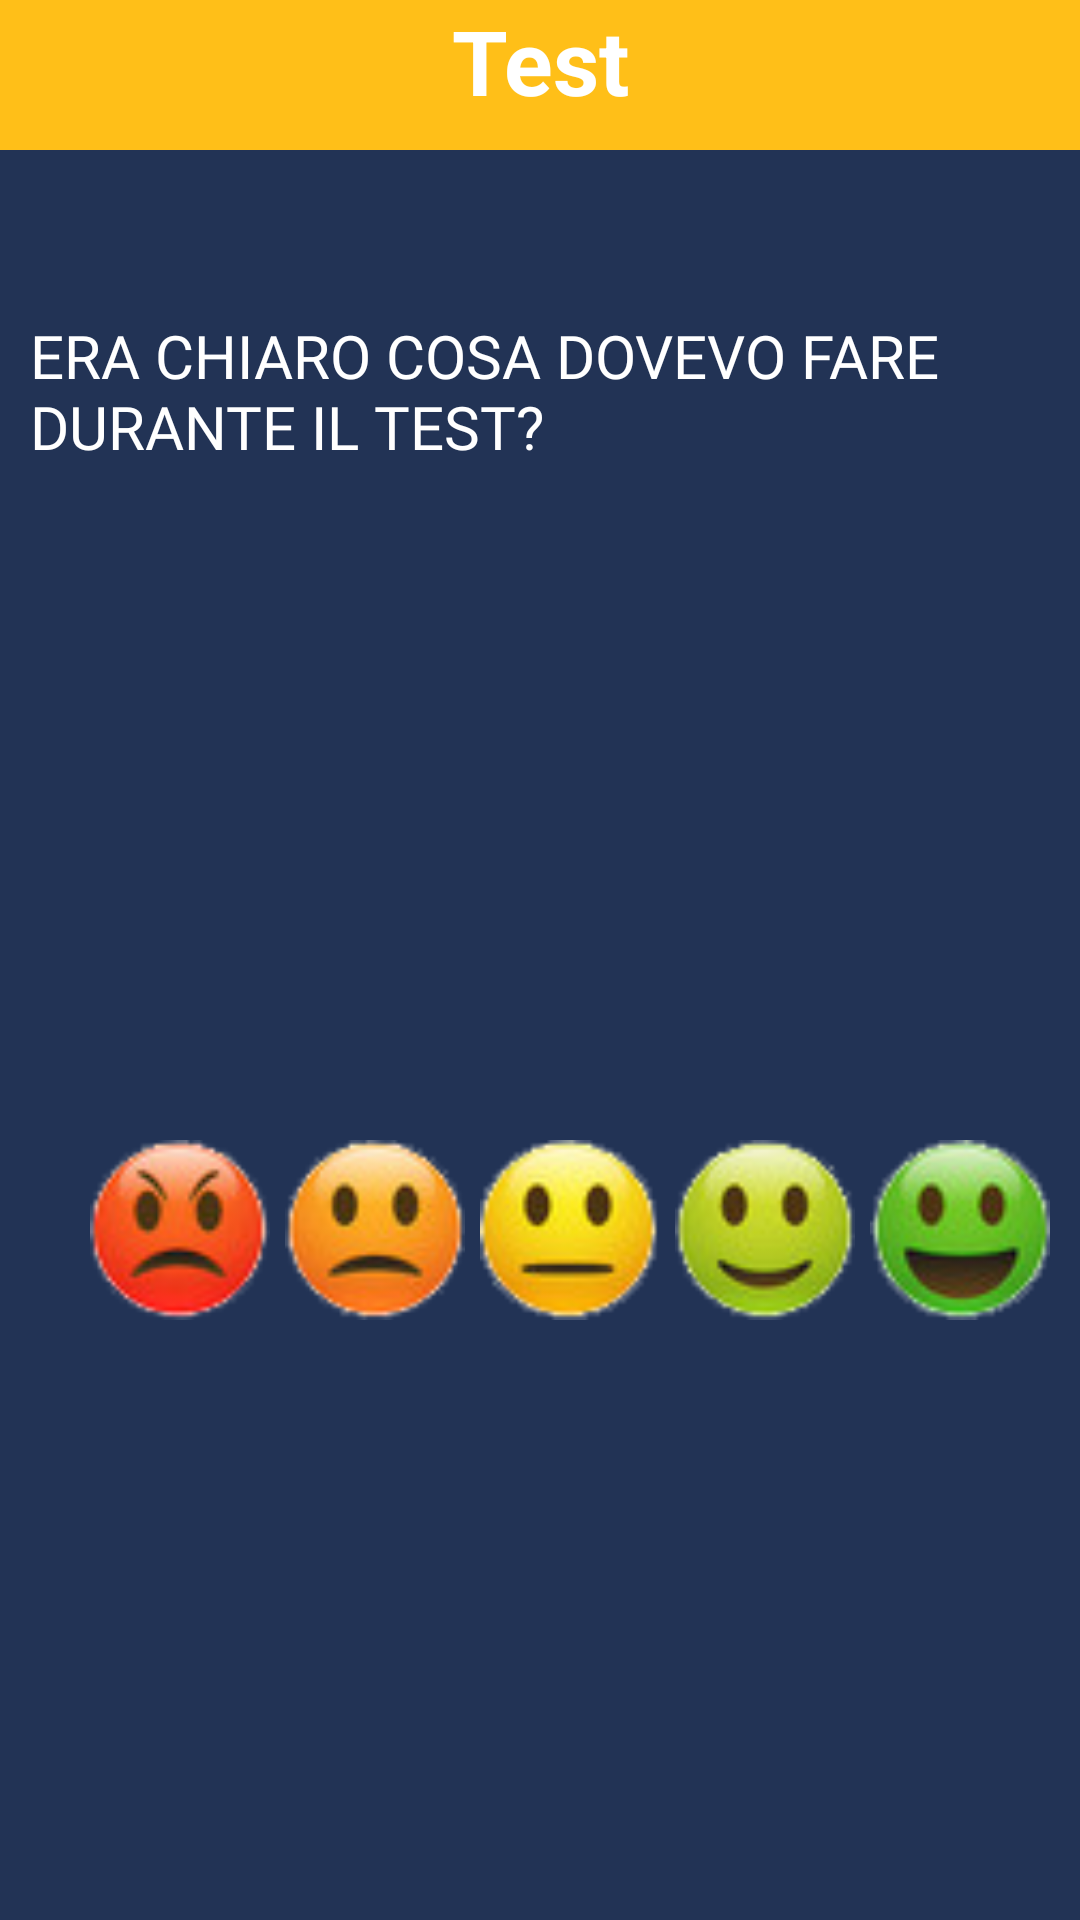

Named icons in this screenshot (1080px×1920px) and their centers, (x,y):
agree: (765,1230)
disagree: (375,1230)
neutral: (568,1230)
strongly agree: (960,1230)
strongly desagree: (179,1230)
